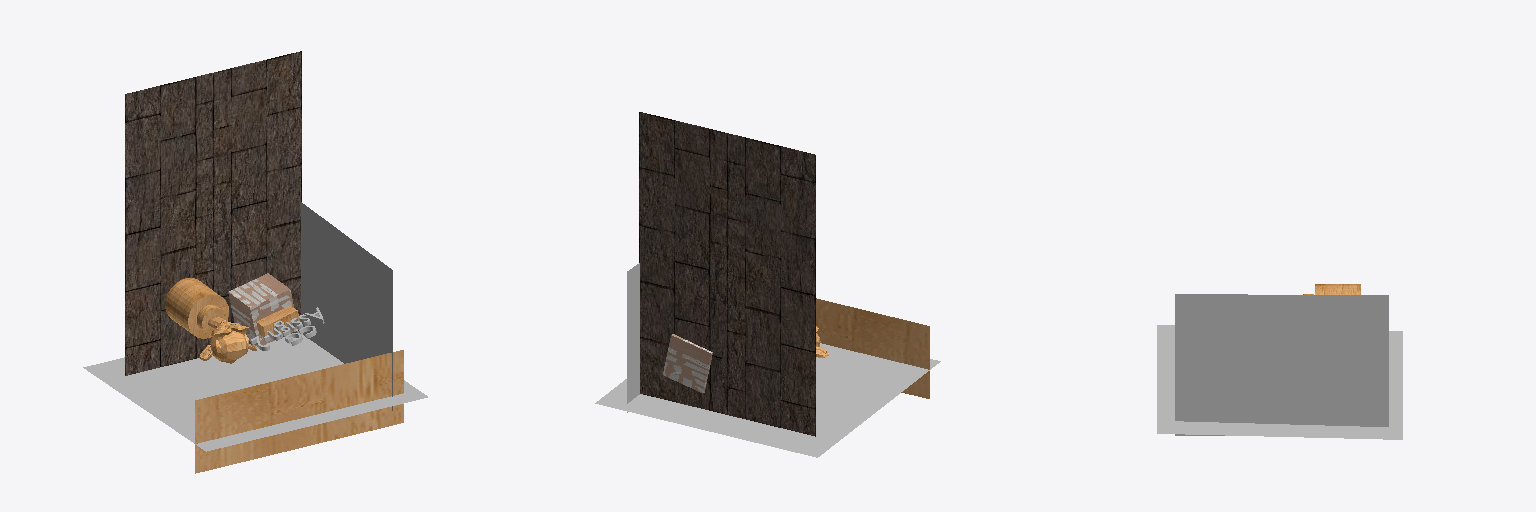
The picture shows the model from 3 angles: view 1: azimuth 30°, elevation 25°; view 2: azimuth 150°, elevation 25°; view 3: azimuth 270°, elevation 25°; orthographic projection.
Visible parts, largest first — view 1: Plane.001, Plane.005, Plane.002, Plane.003, Cube.003, Cylinder, Suzanne, Text.001, Cube.002; view 2: Plane.001, Plane.002, Plane.005, Cube.003, Plane.003; view 3: Plane.003, Plane.002.
Boxes of the visible parts, box(x1,y1,x2,y2) form: Plane.001: box(125, 51, 301, 375); Plane.005: box(195, 350, 403, 473); Plane.002: box(83, 334, 427, 451); Plane.003: box(301, 202, 392, 410); Cube.003: box(228, 273, 296, 347); Cylinder: box(165, 278, 228, 338); Suzanne: box(199, 317, 256, 363); Text.001: box(250, 307, 324, 350); Cube.002: box(256, 305, 299, 336); Plane.001: box(639, 112, 815, 436); Plane.002: box(595, 343, 940, 457); Plane.005: box(816, 298, 929, 398); Cube.003: box(663, 334, 712, 393); Plane.003: box(627, 263, 639, 412); Plane.003: box(1175, 294, 1388, 435); Plane.002: box(1157, 325, 1402, 439).
Bounding box in the file's own units: 10.84 × 14.25 × 10.39.
Materials: 9 (3 with a texture image).